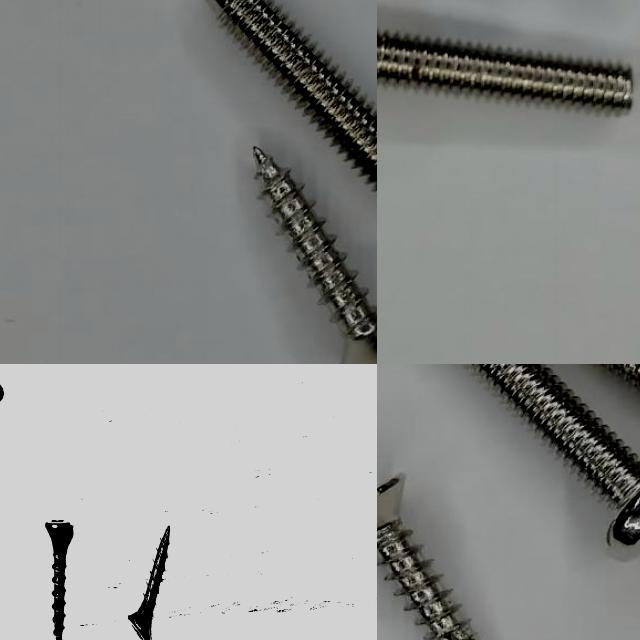Screw: (474, 364, 640, 559), (215, 0, 377, 188), (254, 147, 377, 364), (377, 33, 632, 109), (377, 474, 474, 640), (128, 525, 170, 640), (45, 518, 73, 640)
